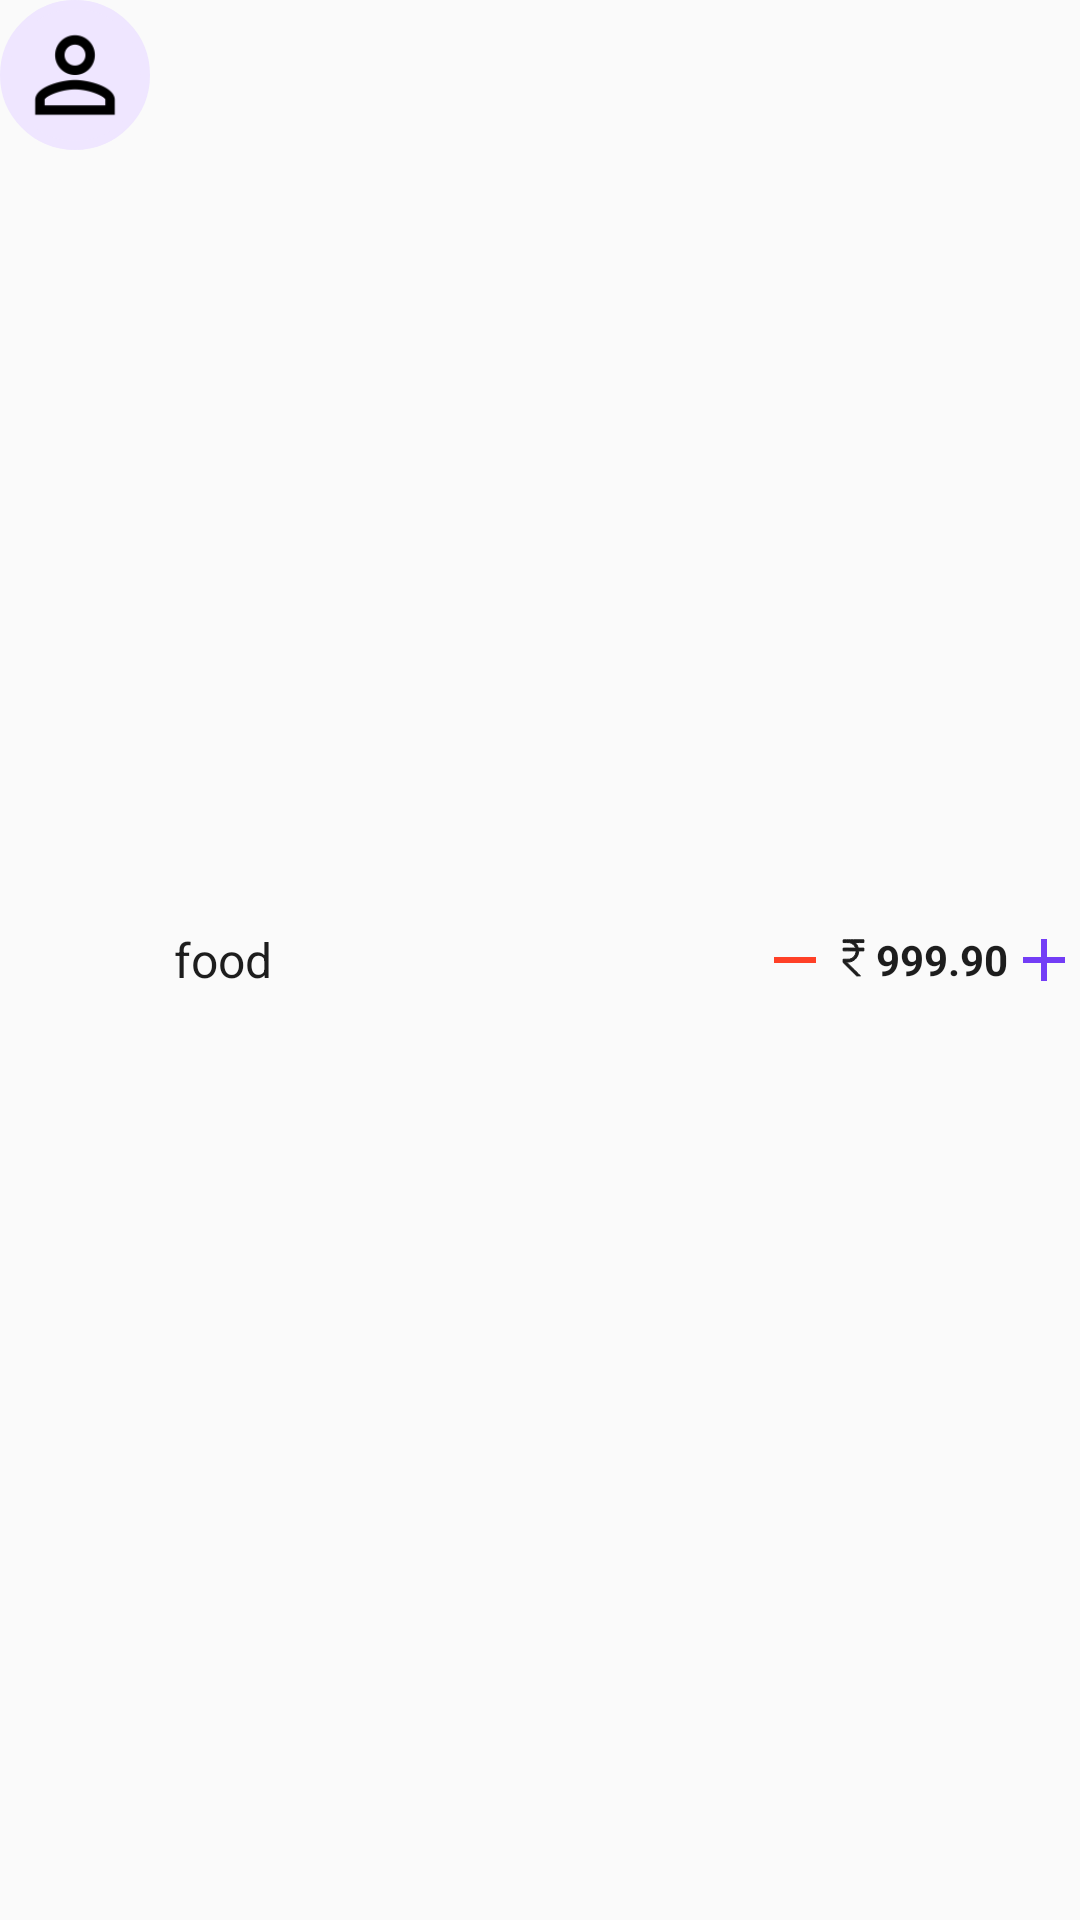

Icon click points for this 1080 x 1920 phone screenshot, format point (x, y):
add: point (1044, 960)
person: point (75, 75)
